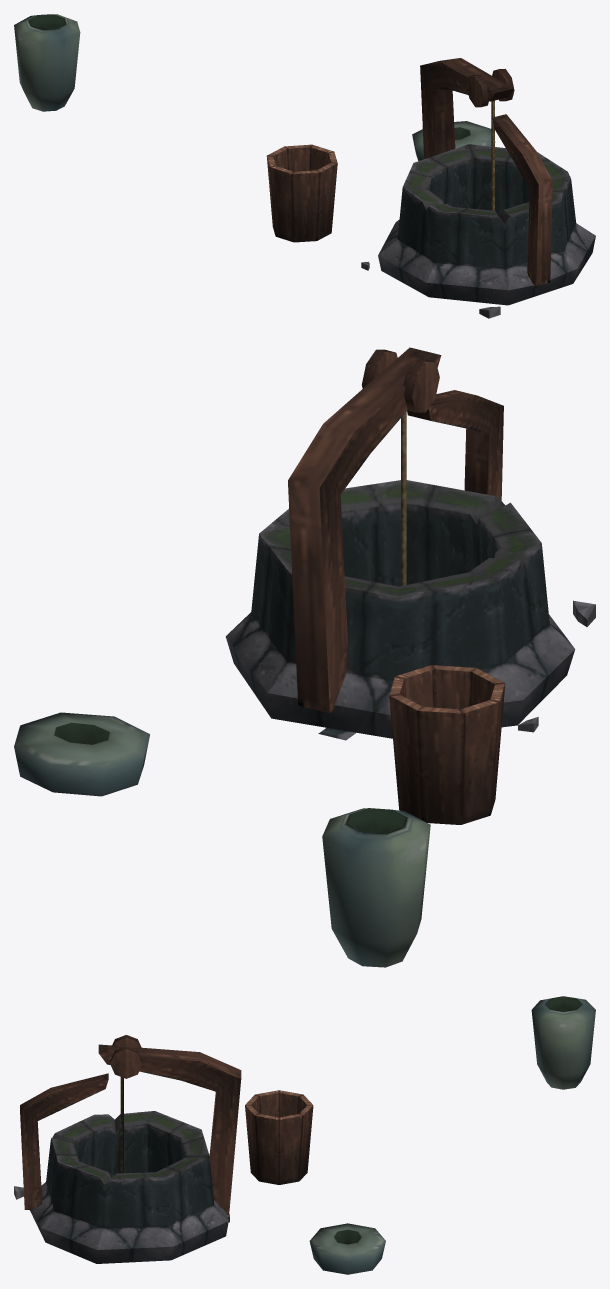
The picture shows the model from 3 angles, top to bottom: view 1: azimuth 30°, elevation 25°; view 2: azimuth 150°, elevation 25°; view 3: azimuth 270°, elevation 25°; orthographic projection. The views are drawn at different scales.
Parts seen in each view (by area): view 1: Object01, shijing, Object03, Object02; view 2: Object01, shijing, Object03, Object02; view 3: Object01, shijing, Object03, Object02.
Boxes of the visible parts, <box> form: Object01: <box>361,58,595,318</box>; shijing: <box>266,144,337,242</box>; Object03: <box>14,14,80,111</box>; Object02: <box>412,121,495,160</box>; Object01: <box>225,347,595,738</box>; shijing: <box>389,665,505,824</box>; Object03: <box>322,808,430,967</box>; Object02: <box>14,712,149,796</box>; Object01: <box>14,1035,241,1263</box>; shijing: <box>245,1090,313,1184</box>; Object03: <box>531,996,595,1089</box>; Object02: <box>309,1223,385,1274</box>.
Size of the model in its own units: 1376 by 2014 by 697.
